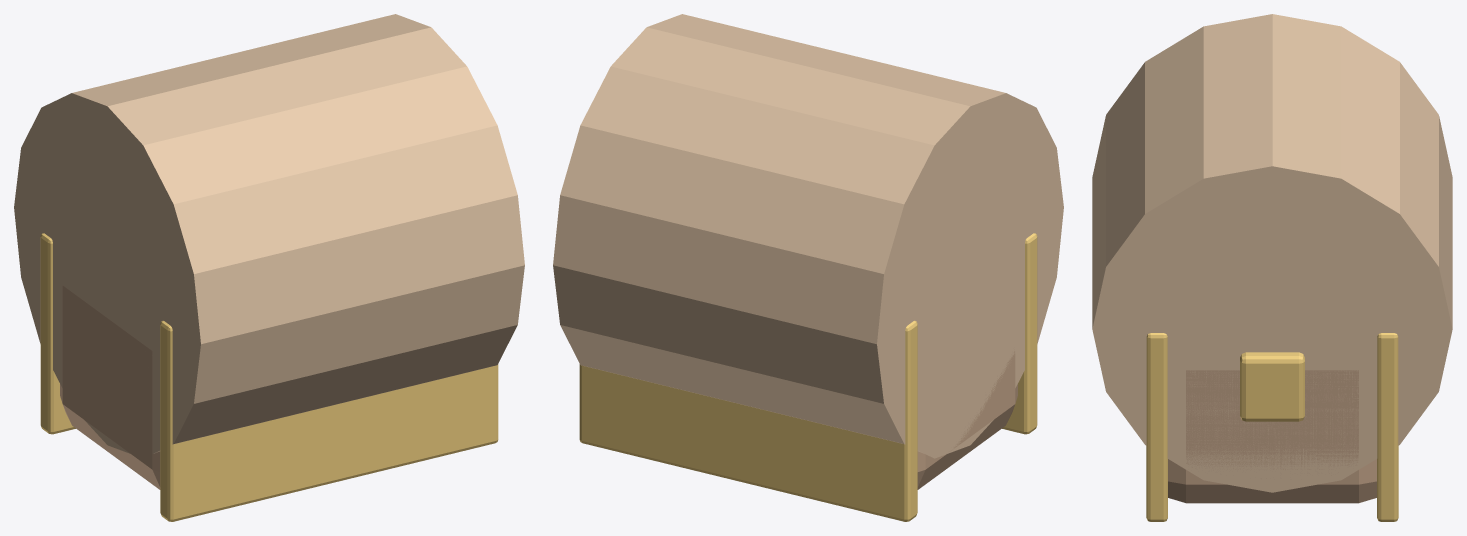
The model's file is ship_chest.glb.
The picture shows the model from 3 angles, left to right: view 1: azimuth 30°, elevation 25°; view 2: azimuth 150°, elevation 25°; view 3: azimuth 270°, elevation 25°; orthographic projection. The views are drawn at different scales.
Parts seen in each view (by area): view 1: ship_chest.001; view 2: ship_chest.001; view 3: ship_chest.001.
Boxes of the visible parts, x1,y1,x2,y2 form: ship_chest.001: [14, 14, 524, 521]; ship_chest.001: [553, 14, 1063, 521]; ship_chest.001: [1092, 14, 1452, 521].
Size of the model in its own units: 1.05 by 1.09 by 1.
